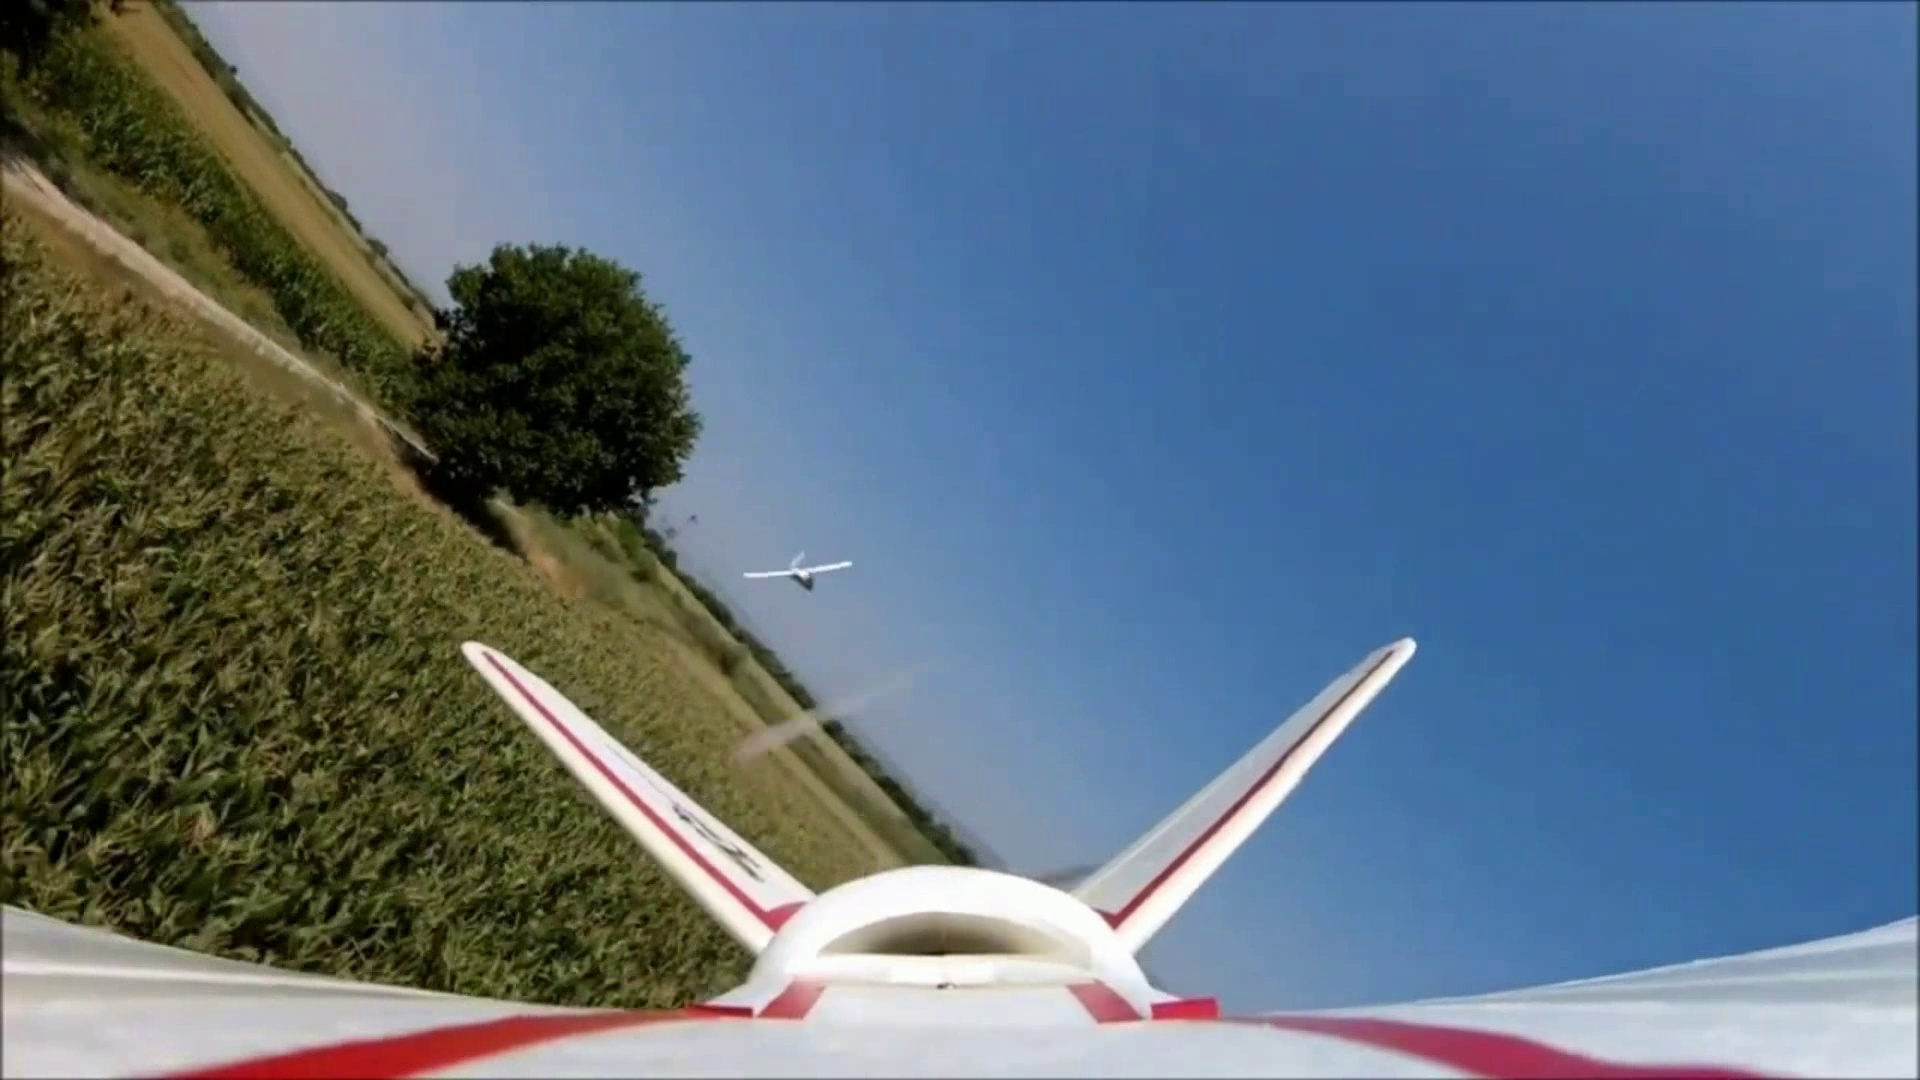airplane: (744, 556, 853, 591)
